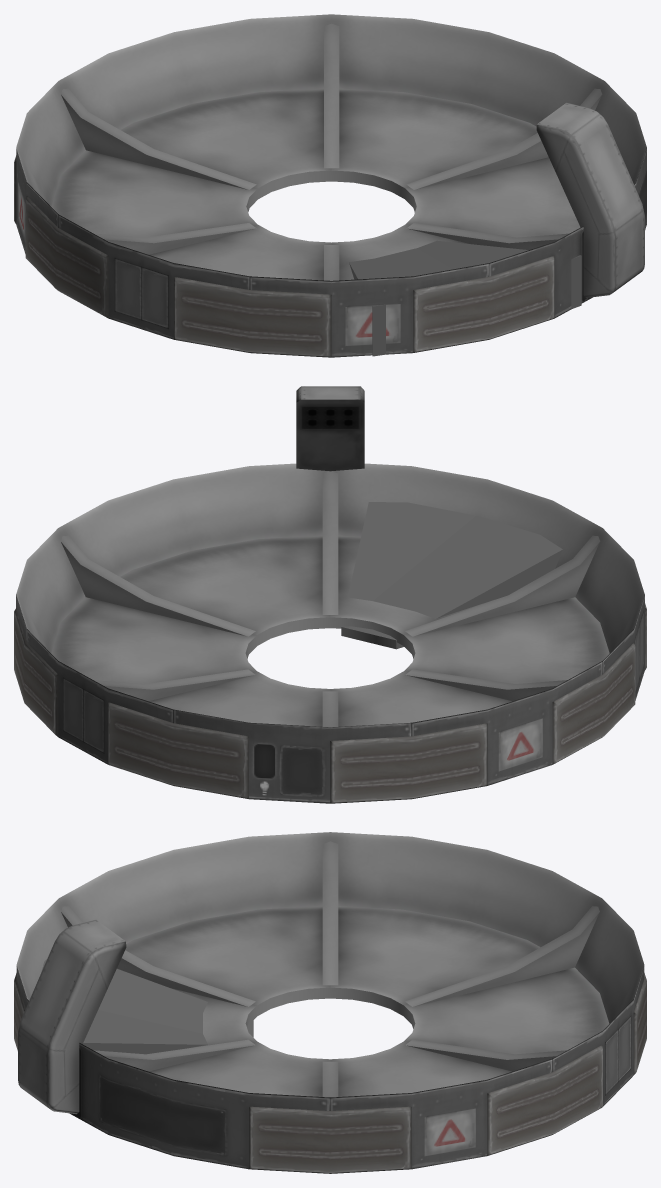
Rendered from Apollo_Block2_Decoupler.dae.
The picture shows the model from 3 angles, top to bottom: view 1: azimuth 30°, elevation 25°; view 2: azimuth 150°, elevation 25°; view 3: azimuth 270°, elevation 25°; orthographic projection.
Parts seen in each view (by area): view 1: Decoupler, Umbilical, pCylinder70; view 2: Decoupler, pCylinder70, Umbilical; view 3: Decoupler, Umbilical, pCylinder70.
Boxes of the visible parts, x1,y1,x2,y2 form: Decoupler: [14, 14, 646, 357]; Umbilical: [536, 102, 644, 297]; pCylinder70: [349, 240, 581, 356]; Decoupler: [14, 463, 646, 803]; pCylinder70: [341, 502, 562, 649]; Umbilical: [296, 386, 364, 471]; Decoupler: [14, 832, 646, 1173]; Umbilical: [18, 920, 126, 1114]; pCylinder70: [41, 959, 253, 1054].
Bounding box in the file's own units: 2.52 × 0.72 × 2.52.
